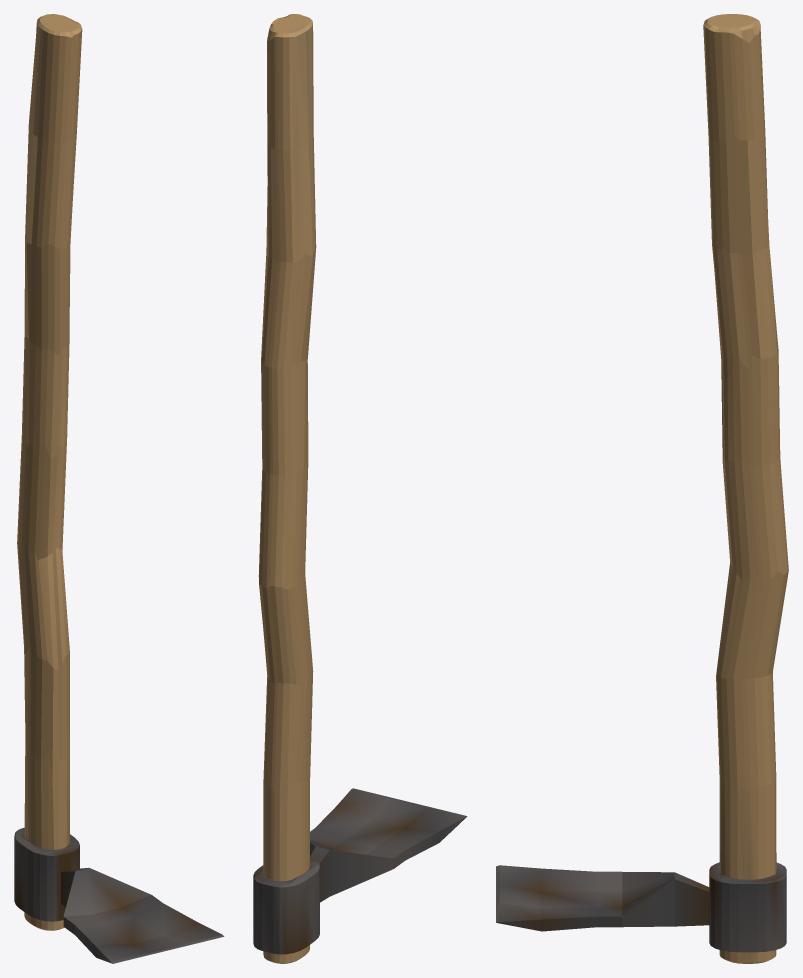
The model's file is hoe.glb.
3 renders of one model, left to right at view 1: azimuth 30°, elevation 25°; view 2: azimuth 150°, elevation 25°; view 3: azimuth 270°, elevation 25°, orthographic. The views are drawn at different scales.
Parts seen in each view (by area): view 1: hoe; view 2: hoe; view 3: hoe.
Boxes of the visible parts, bbox=[...] form: hoe: bbox=[14, 14, 224, 963]; hoe: bbox=[253, 14, 467, 963]; hoe: bbox=[496, 14, 788, 963].
Size of the model in its own units: 0.3821 by 2.95 by 0.8342.
